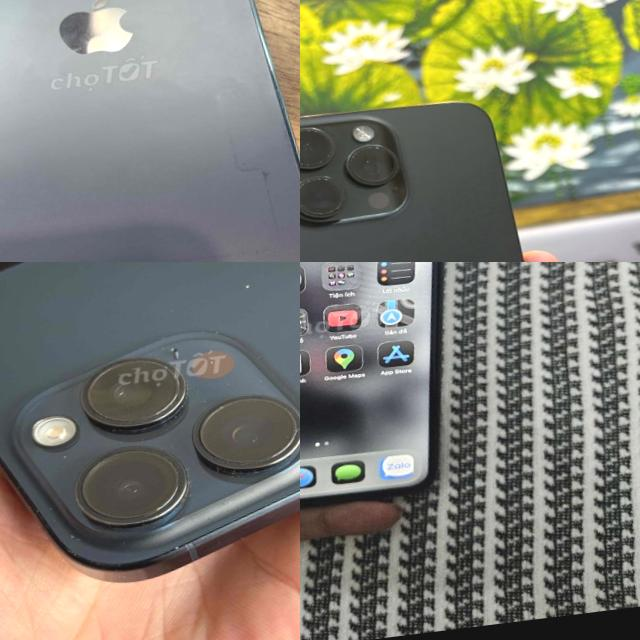gen_11: (300, 262, 489, 523)
gen_14: (0, 0, 300, 262)
gen_15: (0, 262, 300, 602), (300, 78, 575, 262)
